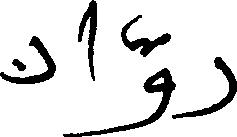X: (187, 52, 236, 121), (0, 31, 55, 88), (144, 28, 173, 130), (88, 0, 97, 136)
